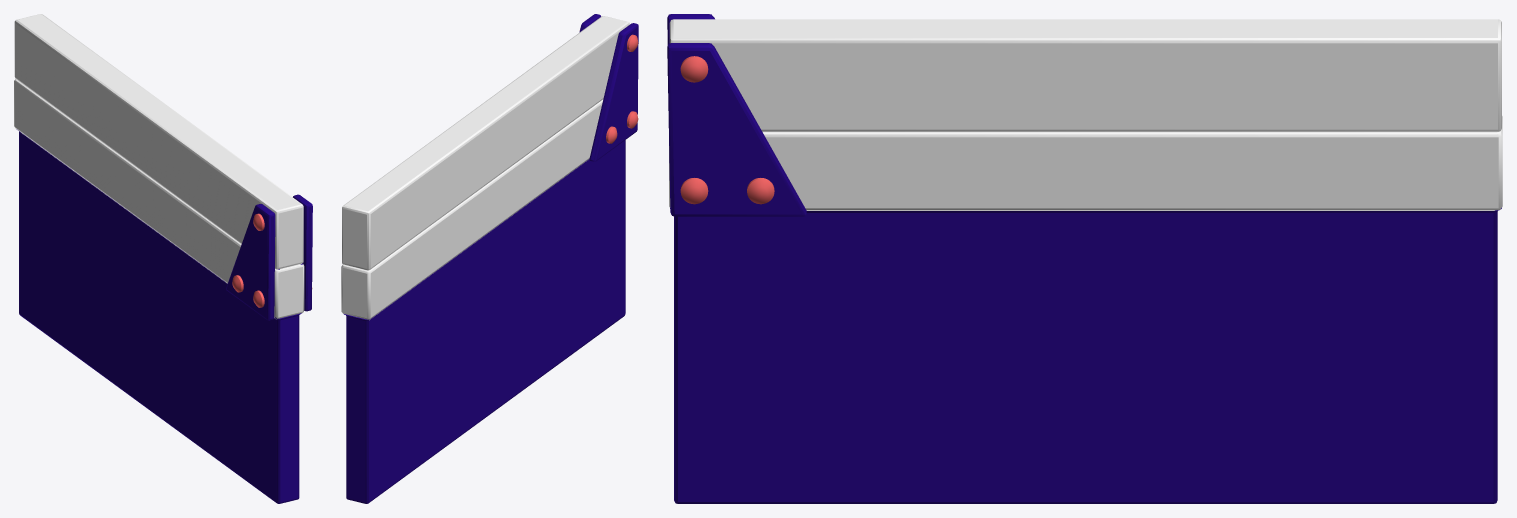
File: clapper.glb
3 views of the same model, side by side, from view 1: azimuth 30°, elevation 25°; view 2: azimuth 150°, elevation 25°; view 3: azimuth 270°, elevation 25° (orthographic). The views are drawn at different scales.
Visible parts, largest first — view 1: Paqueta_bottom, Plaqueta_top, Bisagra; view 2: Paqueta_bottom, Plaqueta_top, Bisagra; view 3: Paqueta_bottom, Plaqueta_top, Bisagra, Remaches_abajo.
Part boxes in pixels (left/top/right/bottom): Paqueta_bottom: left=14, top=79, right=304, bottom=503; Plaqueta_top: left=14, top=14, right=303, bottom=269; Bisagra: left=226, top=194, right=312, bottom=320; Paqueta_bottom: left=341, top=99, right=625, bottom=503; Plaqueta_top: left=342, top=16, right=629, bottom=270; Bisagra: left=579, top=14, right=638, bottom=161; Paqueta_bottom: left=669, top=116, right=1502, bottom=503; Plaqueta_top: left=669, top=19, right=1501, bottom=131; Bisagra: left=667, top=14, right=806, bottom=216; Remaches_abajo: left=680, top=178, right=774, bottom=204.
Size of the model in its own units: 0.1481 by 0.7456 by 1.21.
